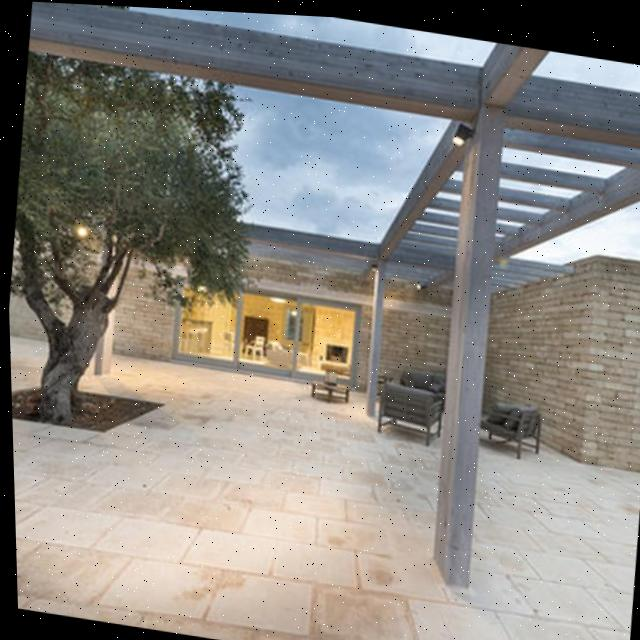building: (5, 161, 640, 477)
